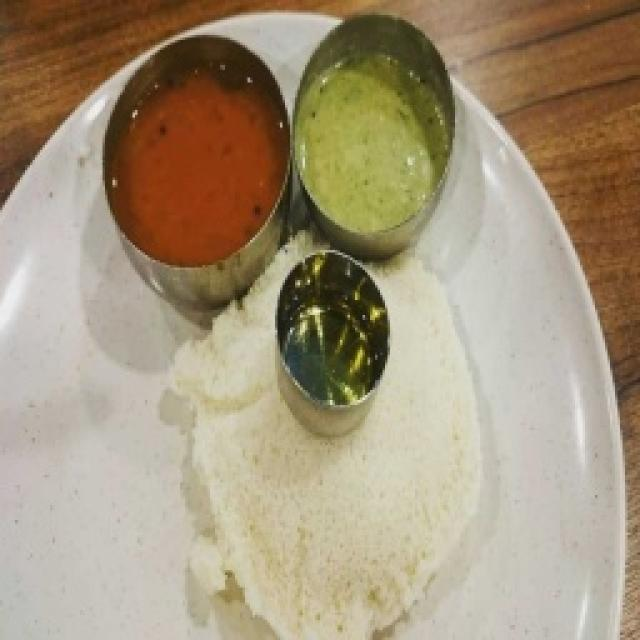idli: (0, 232, 475, 638)
